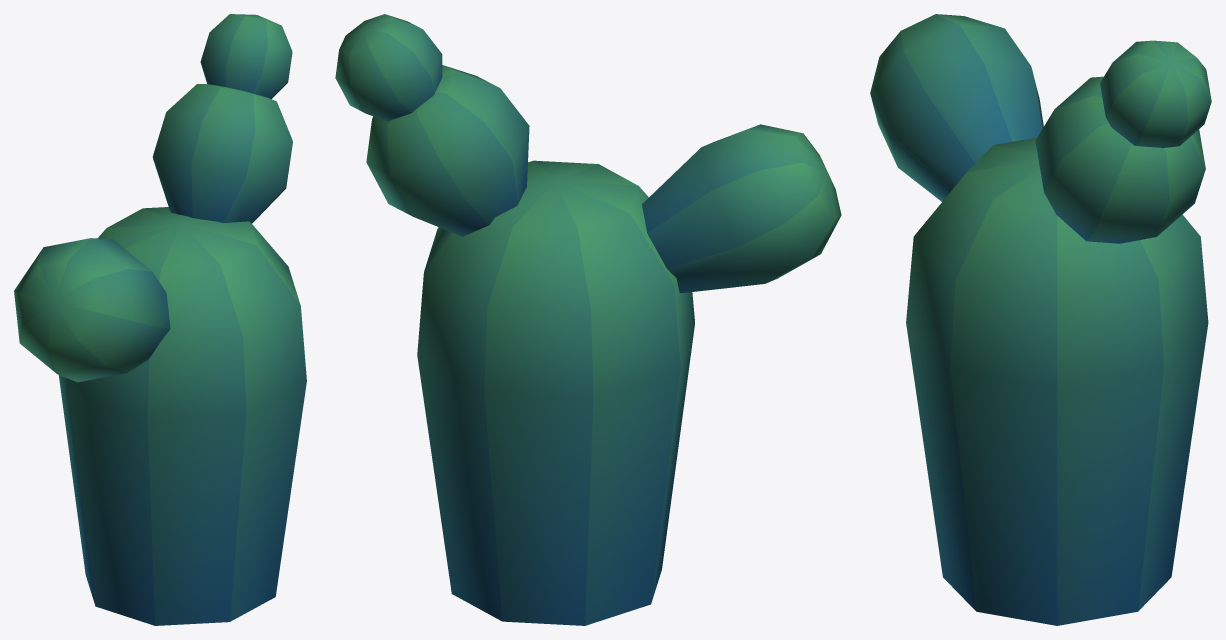
The model's file is cactus_A.glb.
The picture shows the model from 3 angles, left to right: view 1: azimuth 30°, elevation 25°; view 2: azimuth 150°, elevation 25°; view 3: azimuth 270°, elevation 25°; orthographic projection. The views are drawn at different scales.
Visible parts, largest first — view 1: cactus_A; view 2: cactus_A; view 3: cactus_A.
Boxes of the visible parts, left/top/right/bottom form: cactus_A: left=14, top=14, right=306, bottom=625; cactus_A: left=335, top=14, right=841, bottom=625; cactus_A: left=870, top=14, right=1211, bottom=625.
Size of the model in its own units: 0.4636 by 0.6405 by 0.3322.
1 material, 1 textured.
